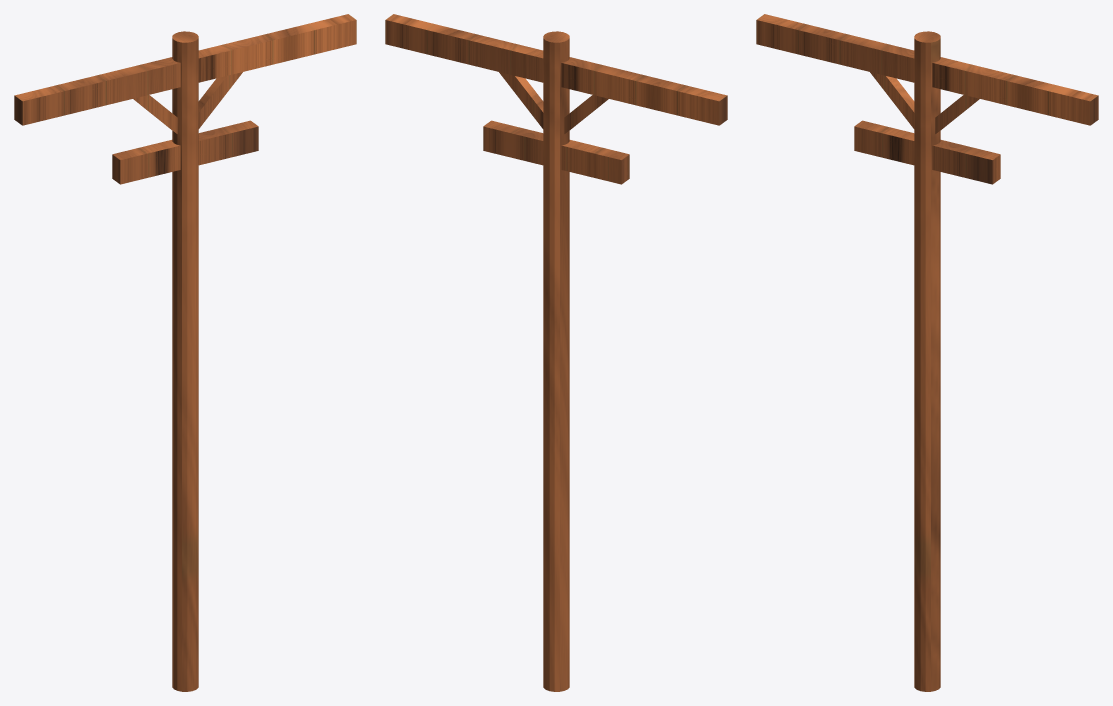
File: eletric_(pole).001_wood_(light)_(table)_(dirty)_0_lev3.glb
3 views of the same model, side by side, from view 1: azimuth 30°, elevation 25°; view 2: azimuth 150°, elevation 25°; view 3: azimuth 330°, elevation 25° (orthographic).
Visible parts, largest first — view 1: eletric_(pole).001_wood_(light)_(table)_(dirty)_0_lev3; view 2: eletric_(pole).001_wood_(light)_(table)_(dirty)_0_lev3; view 3: eletric_(pole).001_wood_(light)_(table)_(dirty)_0_lev3.
Boxes of the visible parts, x1=… form: eletric_(pole).001_wood_(light)_(table)_(dirty)_0_lev3: x1=14, y1=14, x2=356, y2=691; eletric_(pole).001_wood_(light)_(table)_(dirty)_0_lev3: x1=385, y1=14, x2=727, y2=691; eletric_(pole).001_wood_(light)_(table)_(dirty)_0_lev3: x1=756, y1=14, x2=1098, y2=691.
Bounding box in the file's own units: 1.73 × 3.21 × 0.1204.
1 material, 1 textured.
